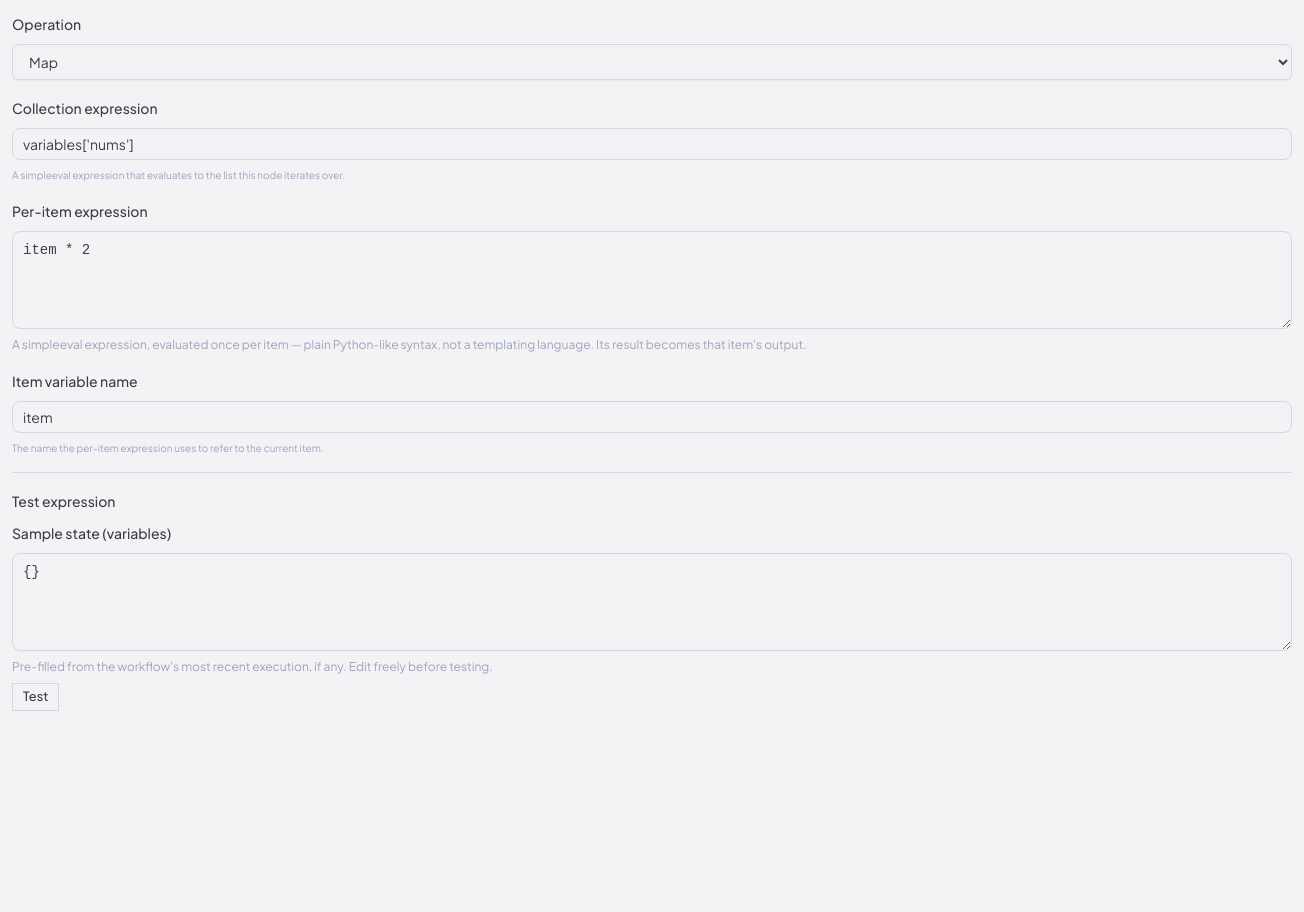
Test: DataTransformPanel › runs a map test and shows the result array
This screenshot has width=1304, height=912.
Click the button "Test" at (36, 697), box [12,683,59,711]
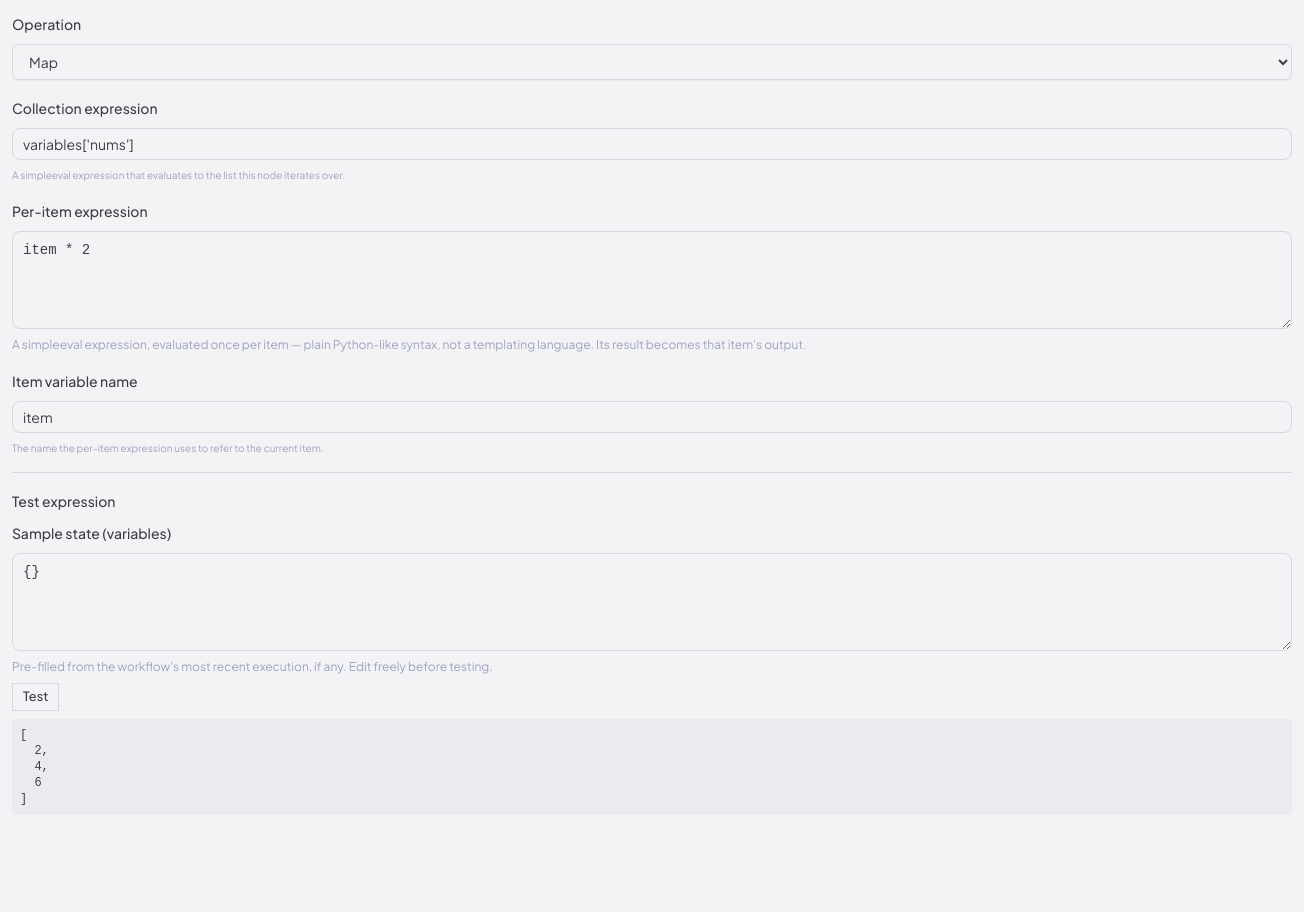
Expected: the text "[ 2, 4, 6 ]" is shown, [12,719,1292,815]
